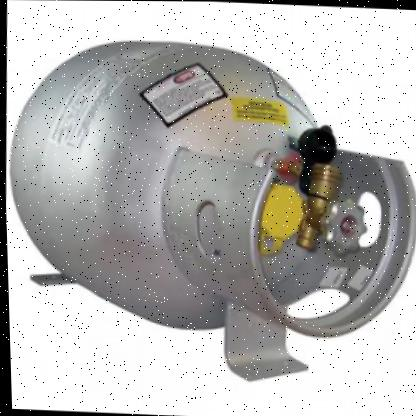gas-tank: (0, 21, 415, 397)
